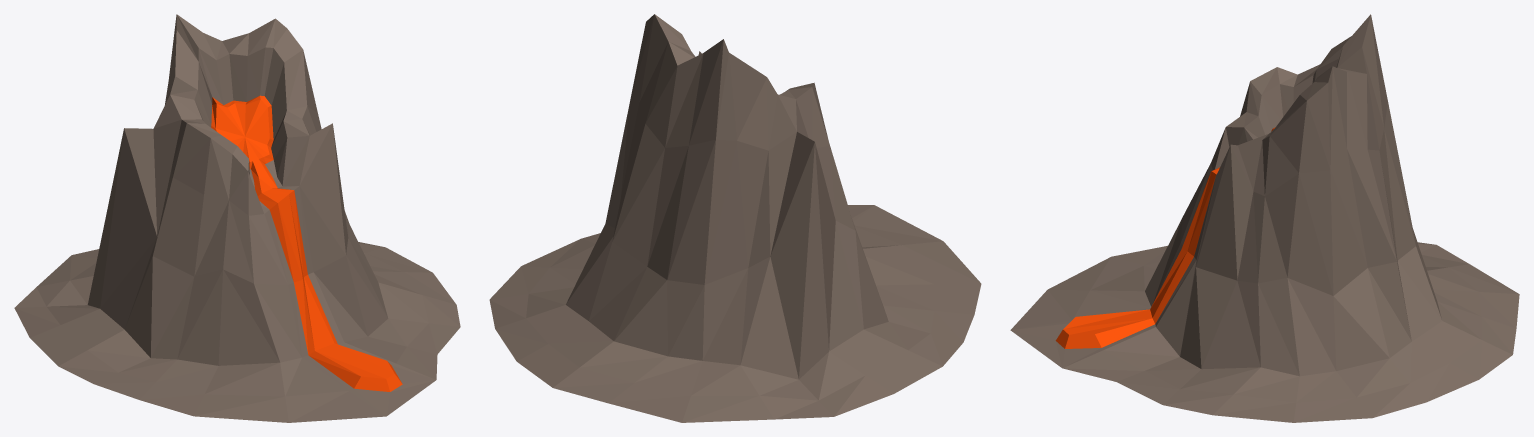
The model's file is v_volcano.glb.
3 views of the same model, side by side, from view 1: azimuth 30°, elevation 25°; view 2: azimuth 150°, elevation 25°; view 3: azimuth 270°, elevation 25° (orthographic). The views are drawn at different scales.
Parts seen in each view (by area): view 1: Volcano; view 2: Volcano; view 3: Volcano.
Part boxes in pixels (box(x1,y1,x2,y2)): Volcano: box(14, 14, 460, 422); Volcano: box(489, 14, 981, 422); Volcano: box(1010, 14, 1519, 422).
Bounding box in the file's own units: 201 × 145 × 226.
Materials: 1 (1 with a texture image).
